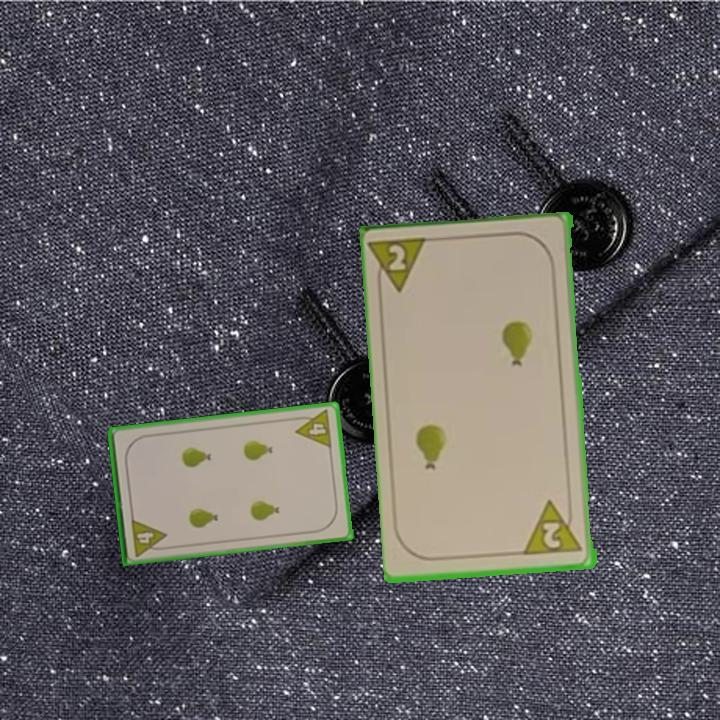2p: (369, 234, 434, 298), (522, 496, 586, 559)
4p: (291, 406, 335, 451), (127, 515, 170, 559)
